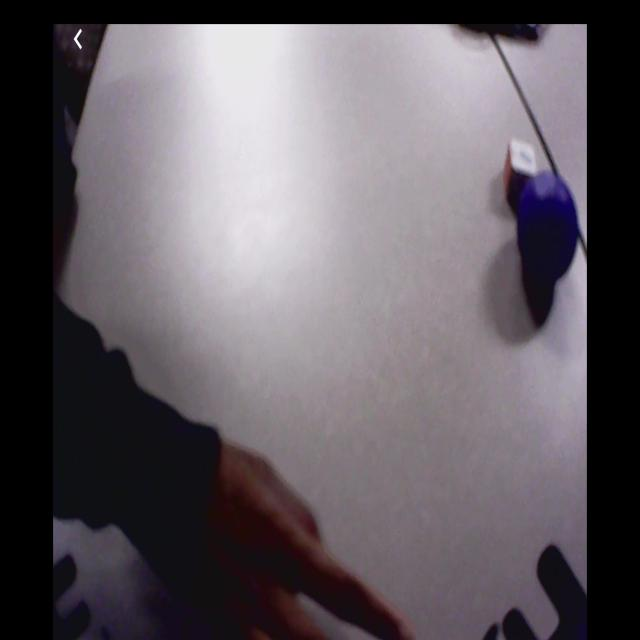ball: (517, 170, 580, 276)
